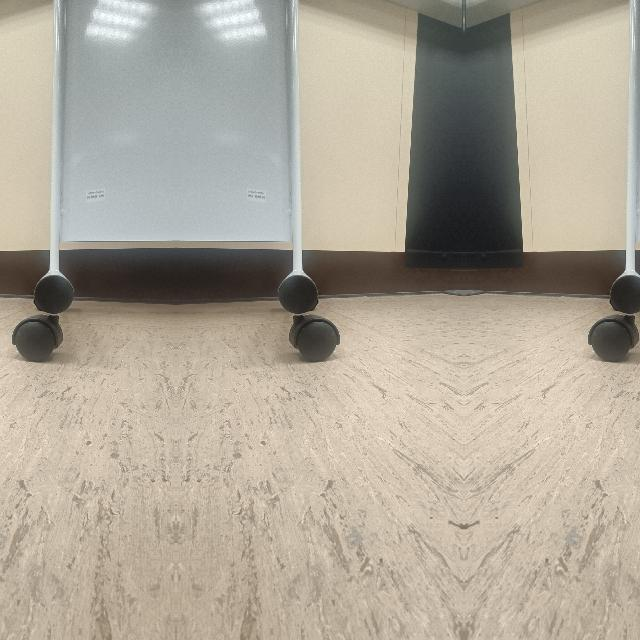obstacle: (248, 159, 356, 367), (0, 159, 102, 367), (571, 159, 640, 367)
